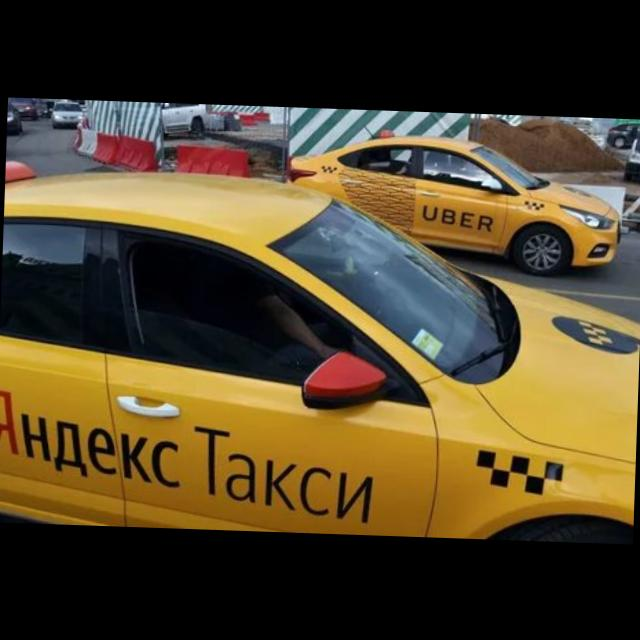taxi: (1, 157, 640, 544), (282, 126, 624, 279)
